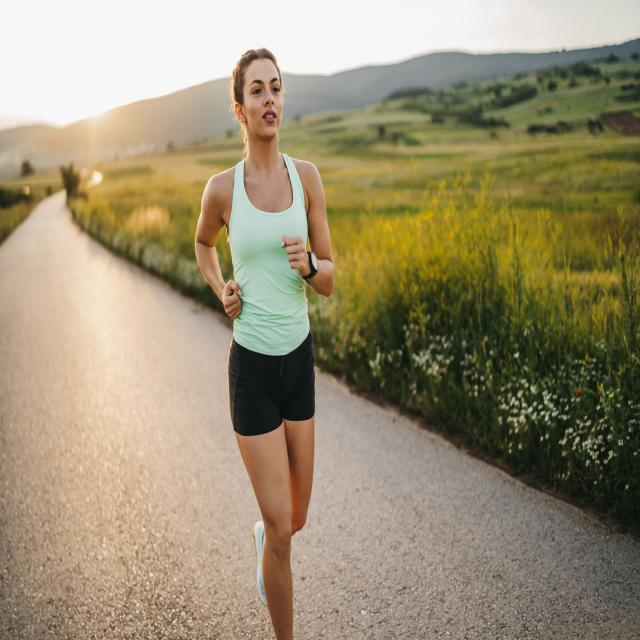Person: (195, 46, 334, 640)
